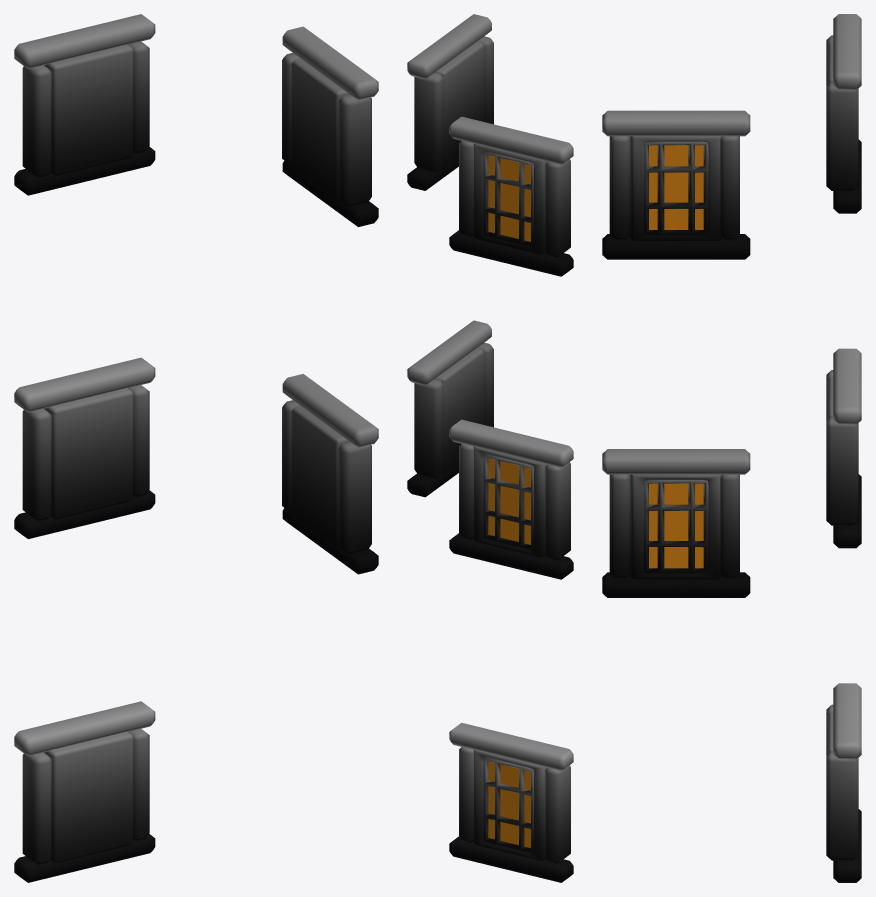
File: SM_Stone_Window_04.fbx
3 renders of one model, left to right at view 1: azimuth 30°, elevation 25°; view 2: azimuth 150°, elevation 25°; view 3: azimuth 270°, elevation 25°, orthographic. The views are drawn at different scales.
Parts seen in each view (by area): view 1: SM_Stone_Window_04; view 2: SM_Stone_Window_04; view 3: SM_Stone_Window_04.
Part boxes in pixels (<box>): SM_Stone_Window_04: <box>14,14,378,882</box>; SM_Stone_Window_04: <box>407,14,573,882</box>; SM_Stone_Window_04: <box>602,14,861,882</box>.
Bounding box in the file's own units: 0.7194 × 2.43 × 0.7015.
